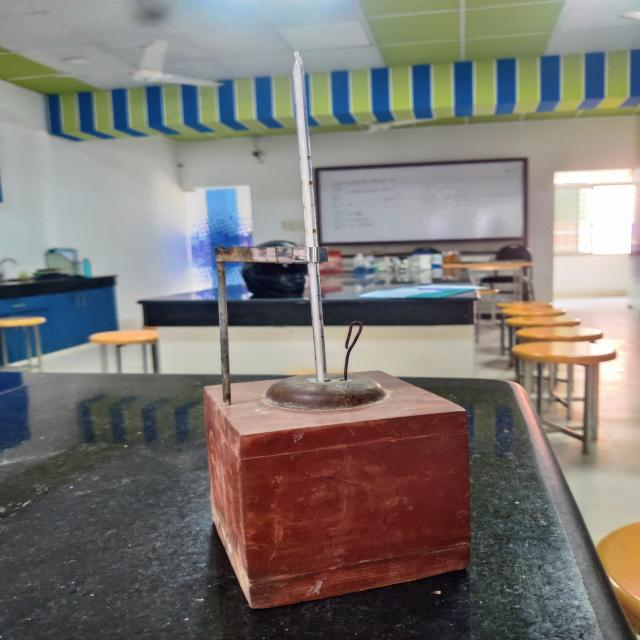Calorimeter: (169, 37, 517, 640)
